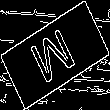M_SE: (27, 21, 83, 89)
